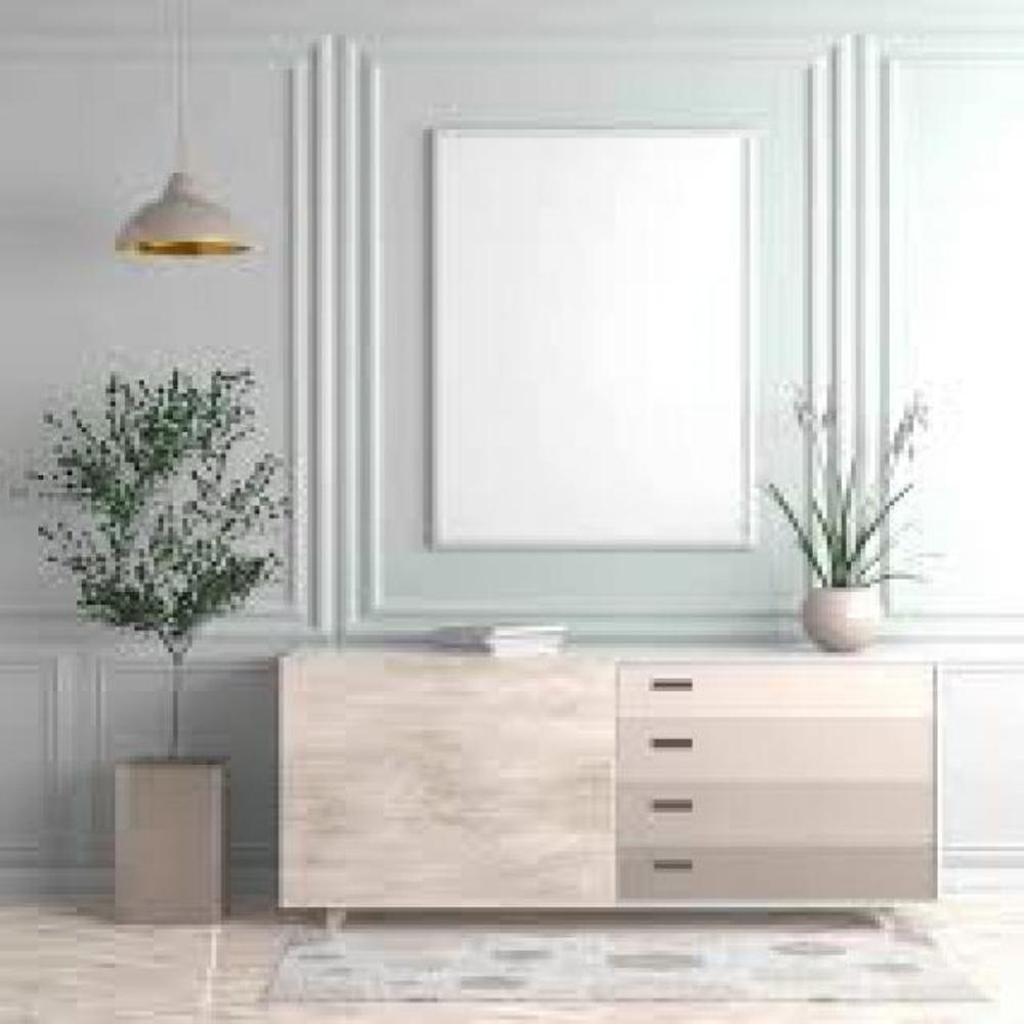cabinet: (270, 621, 959, 942)
